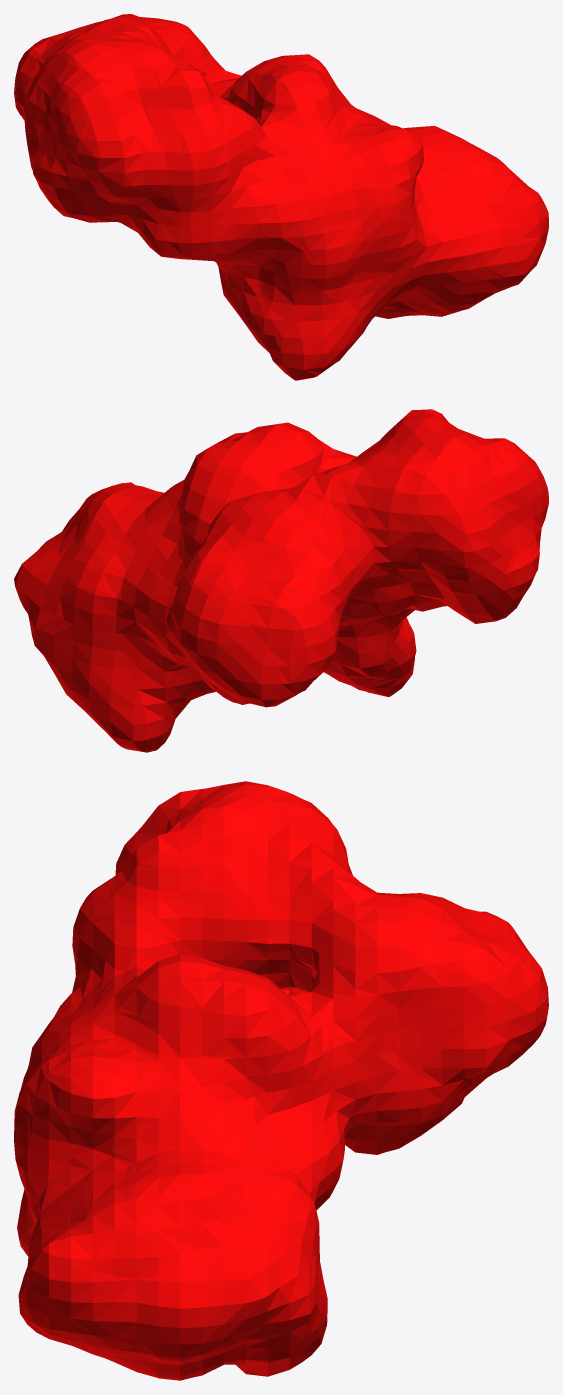
The model's file is rluB_coarse.dae.
3 views of the same model, one above another, from view 1: azimuth 30°, elevation 25°; view 2: azimuth 150°, elevation 25°; view 3: azimuth 270°, elevation 25° (orthographic). The views are drawn at different scales.
Visible parts, largest first — view 1: rluB; view 2: rluB; view 3: rluB.
Boxes of the visible parts, box(x1,y1,x2,y2) form: rluB: box(14, 14, 548, 380); rluB: box(14, 409, 548, 752); rluB: box(14, 781, 548, 1380).
Size of the model in its own units: 76.29 by 53.13 by 60.7.
